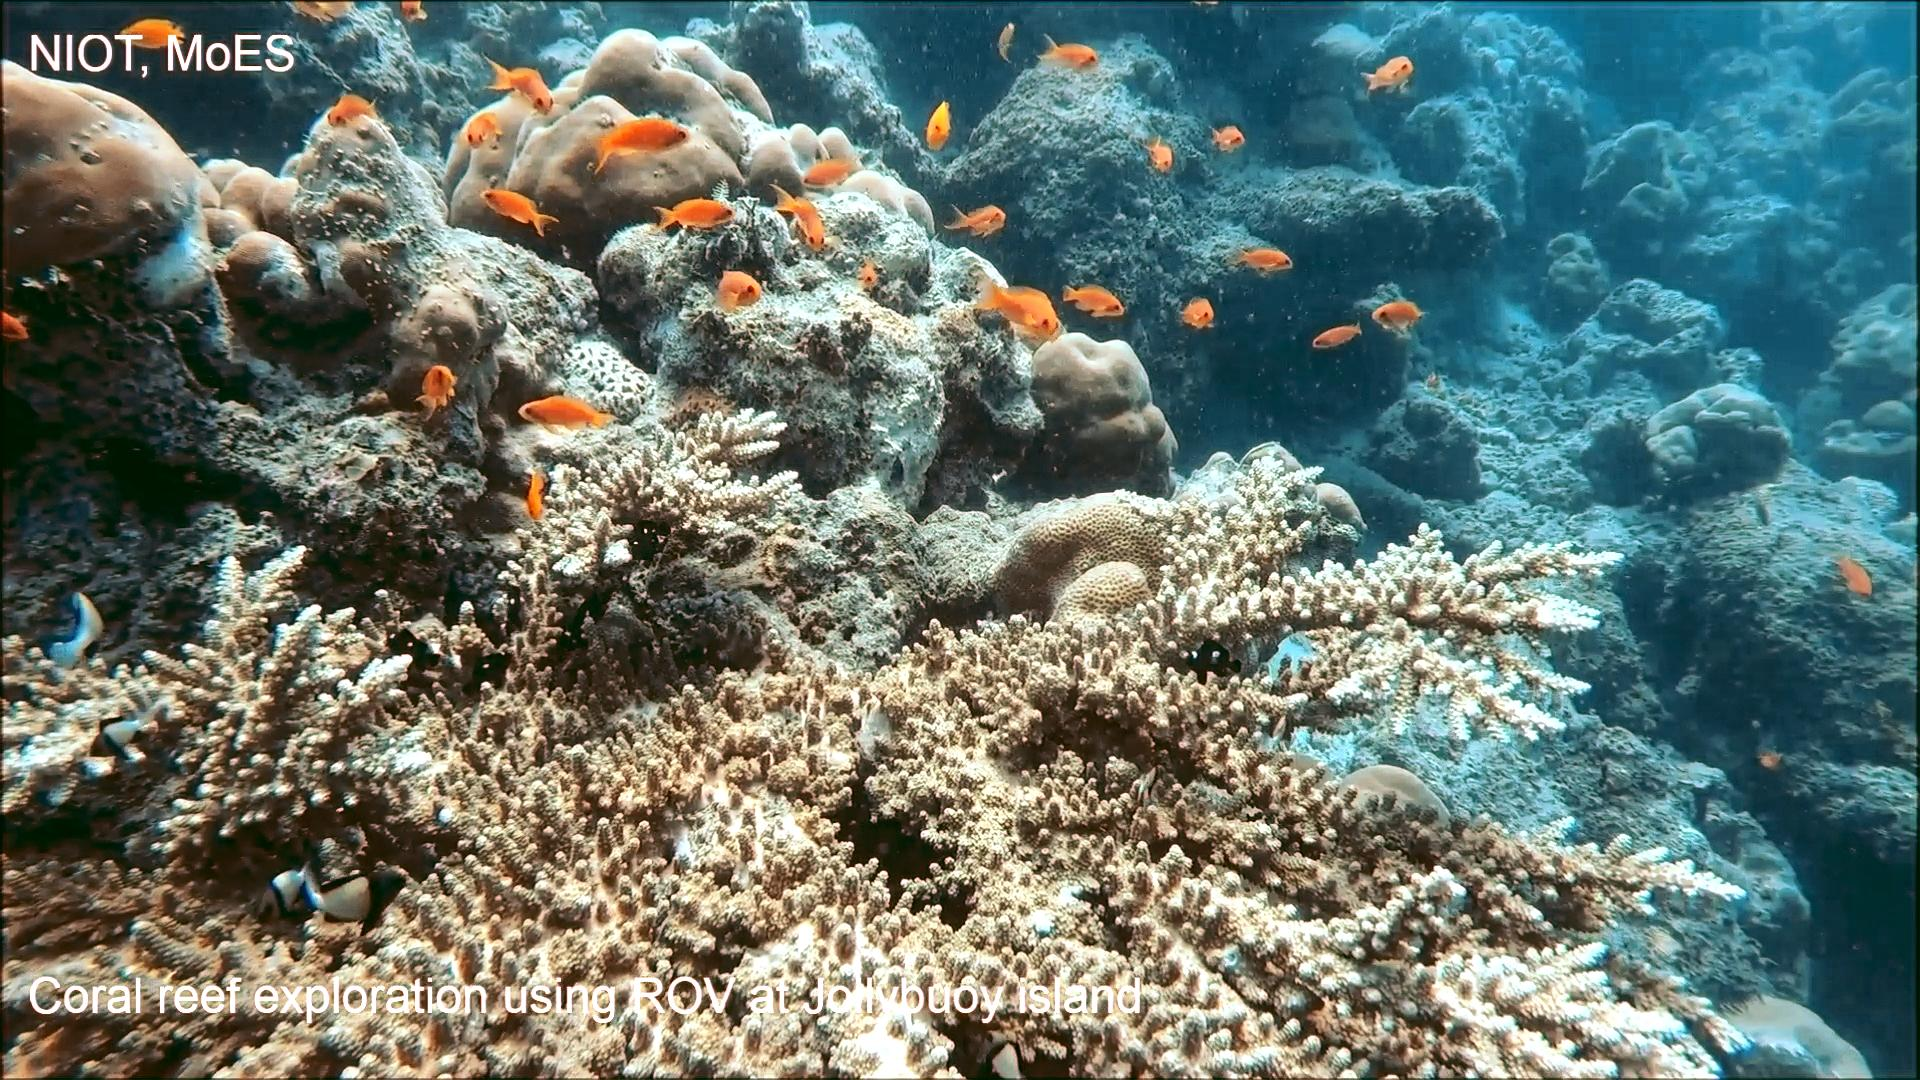Porites-Porites pukoensis: (440, 25, 808, 247), (0, 49, 211, 305)
